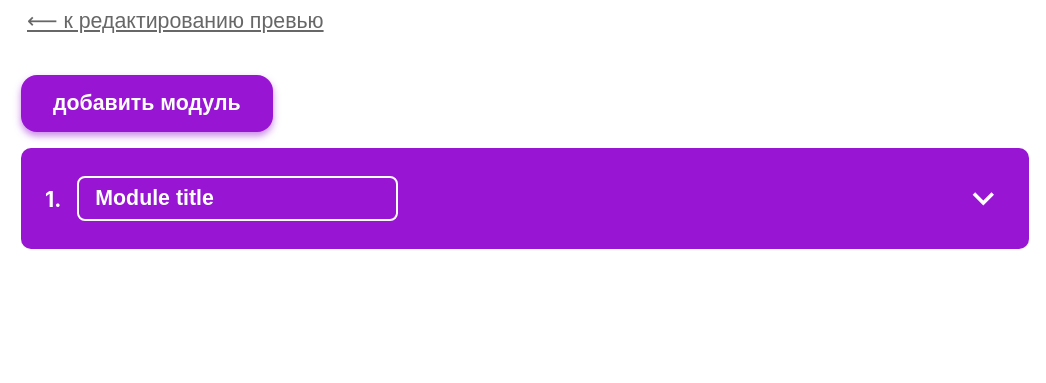
Scenario: EditCourseHierarchy › adds module
Click the button "добавить модуль".
click(147, 104)  # box x1=21 y1=75 x2=273 y2=132
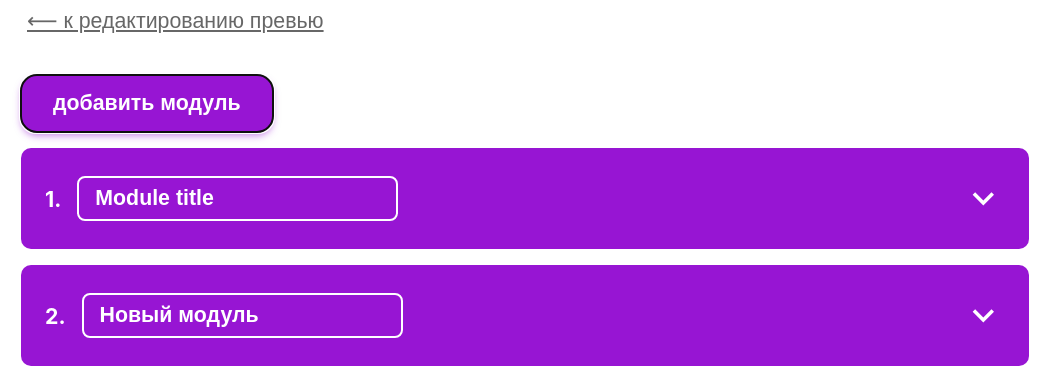
Expected: the 1st field with placeholder "название модуля" holds "Module title", x1=77 y1=176 x2=398 y2=221
Expected: the 2nd field with placeholder "название модуля" holds "Новый модуль", x1=82 y1=293 x2=403 y2=338
